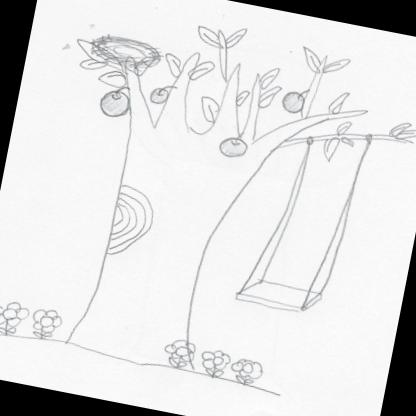apple: (96, 83, 134, 120), (216, 128, 250, 160), (282, 86, 308, 115), (150, 82, 178, 107)
bird: (90, 32, 165, 75)
branch_sharp: (107, 40, 370, 184)
knot: (104, 182, 158, 262)
root_none: (51, 316, 206, 414)
trunk_straight: (88, 164, 244, 328)
